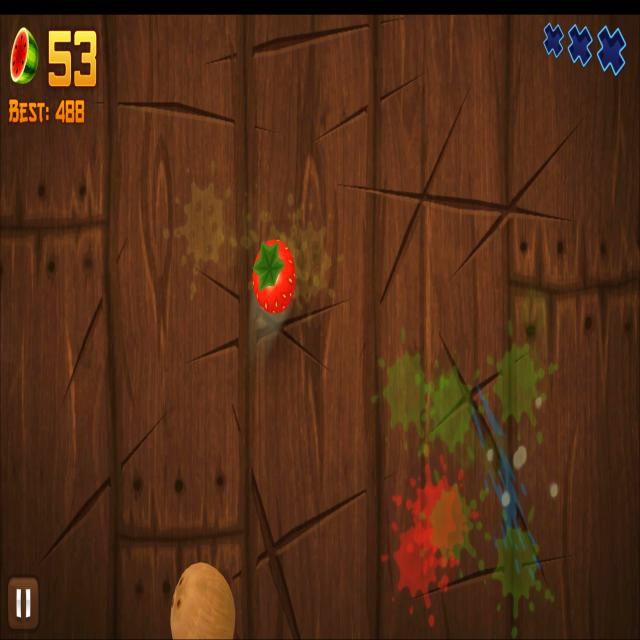fruit: (170, 561, 236, 640), (252, 238, 296, 316)
